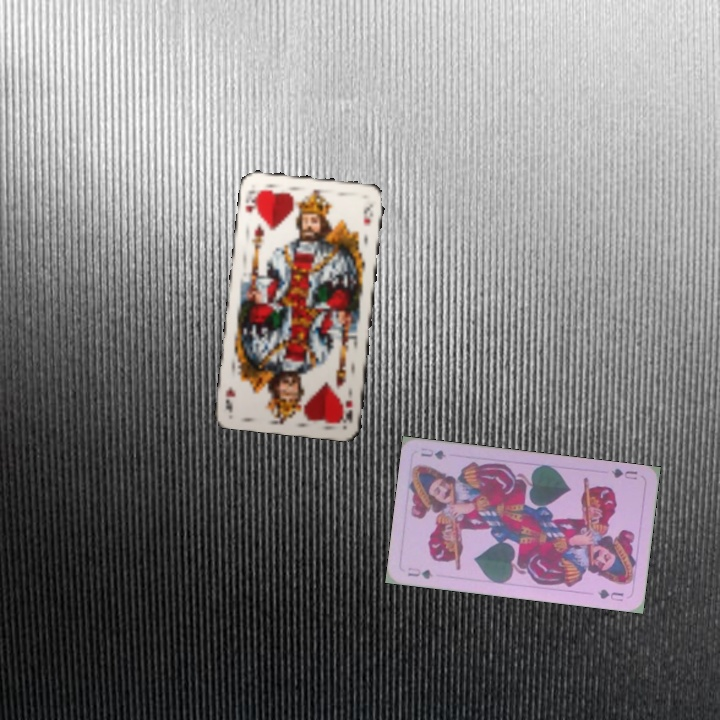GU: (607, 464, 640, 482), (404, 563, 435, 582)
HK: (241, 186, 262, 218), (338, 396, 356, 426)
